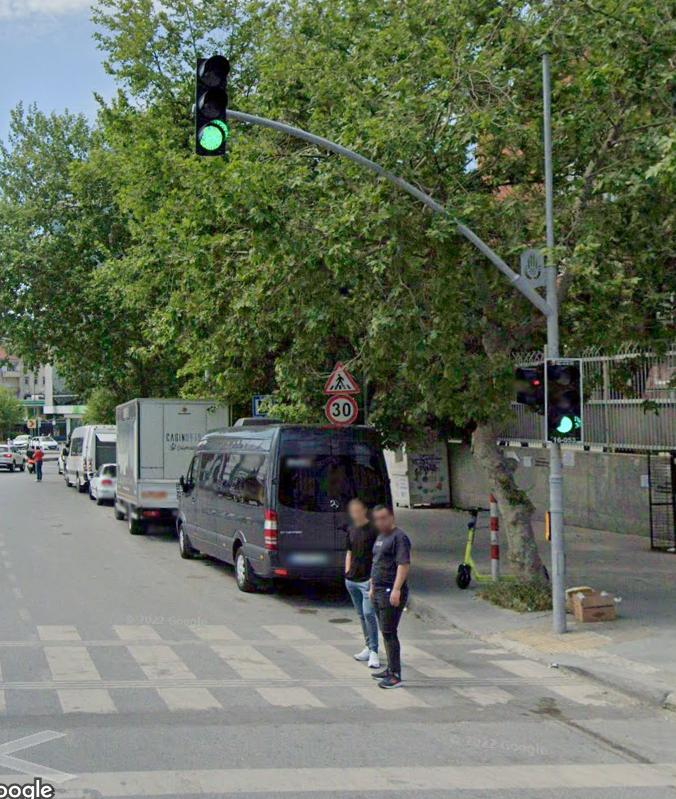greenlight: (192, 48, 228, 160), (548, 351, 583, 439)
